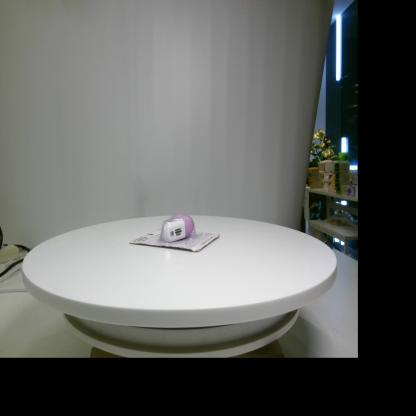Stationery: (129, 213, 220, 253)
